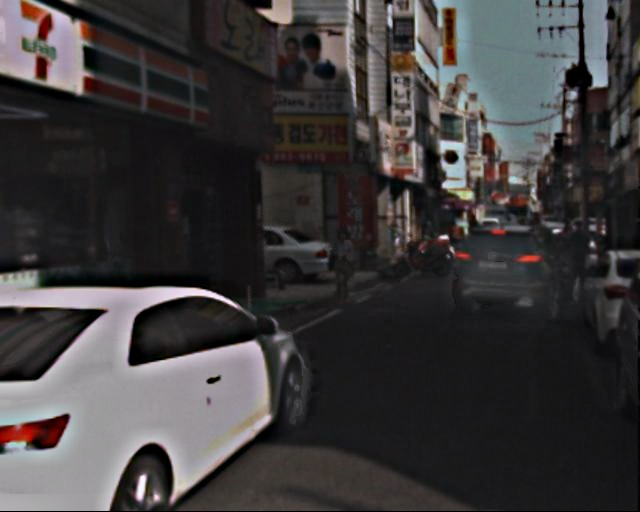person: (328, 228, 362, 311), (565, 221, 595, 293)
